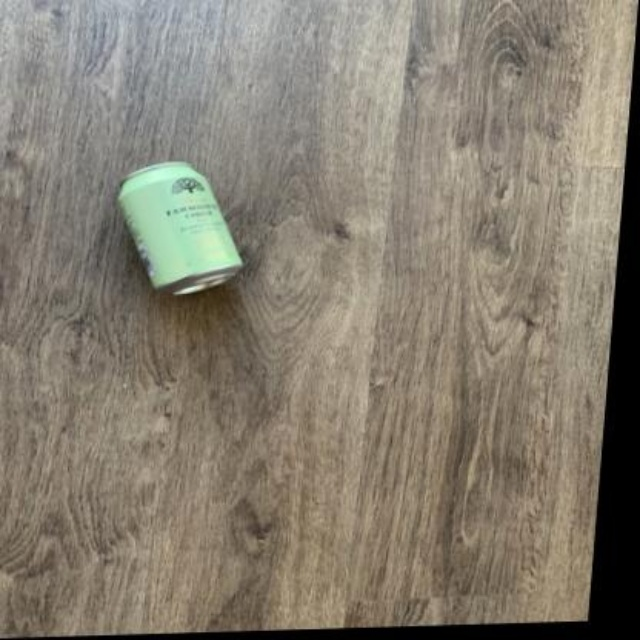trash: (118, 162, 242, 294)
